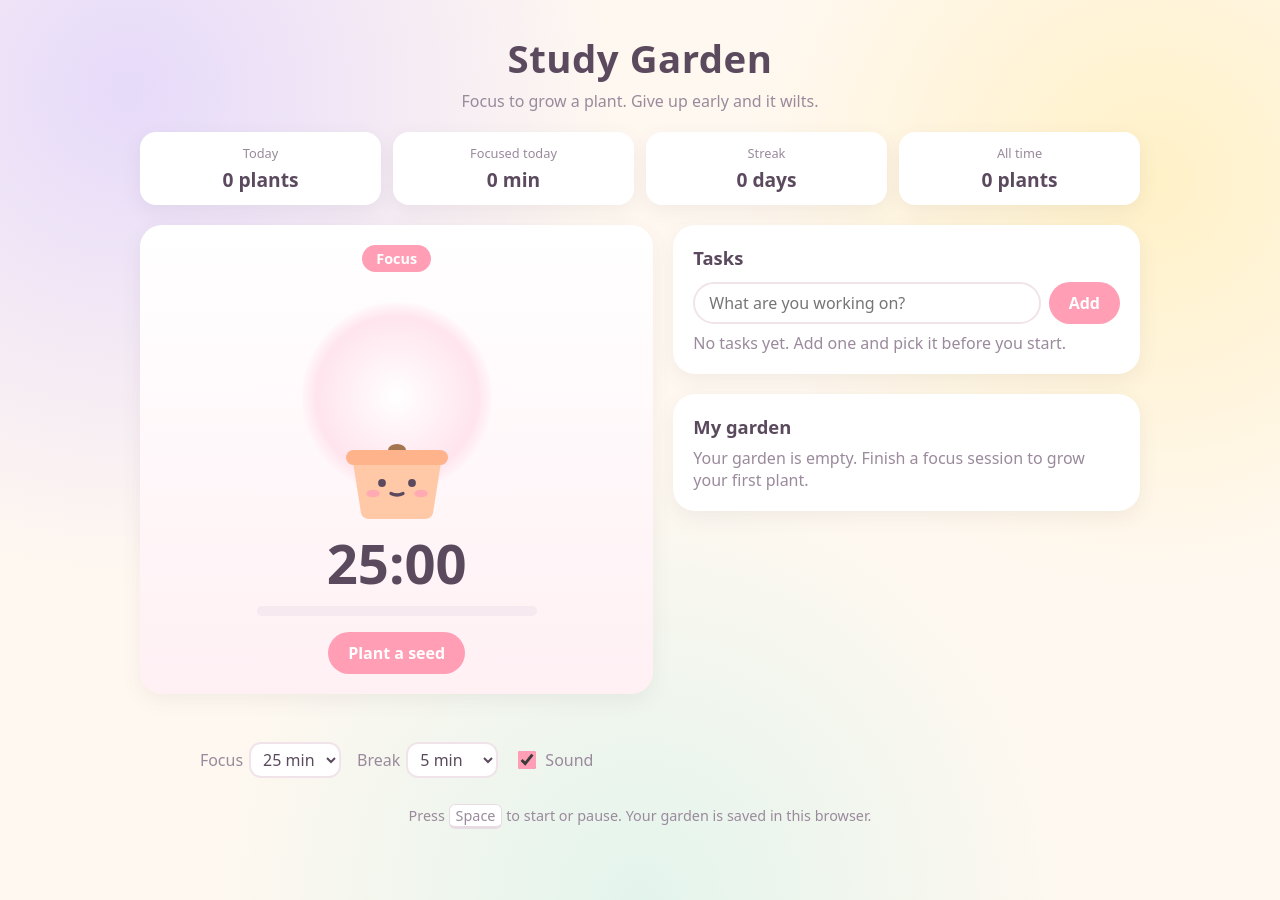
App › counts finished sessions on the selected task
The image size is (1280, 900).
Type "Revise C pointers" into the field named "New task". click: (867, 303)
box: x1=693 y1=282 x2=1041 y2=324
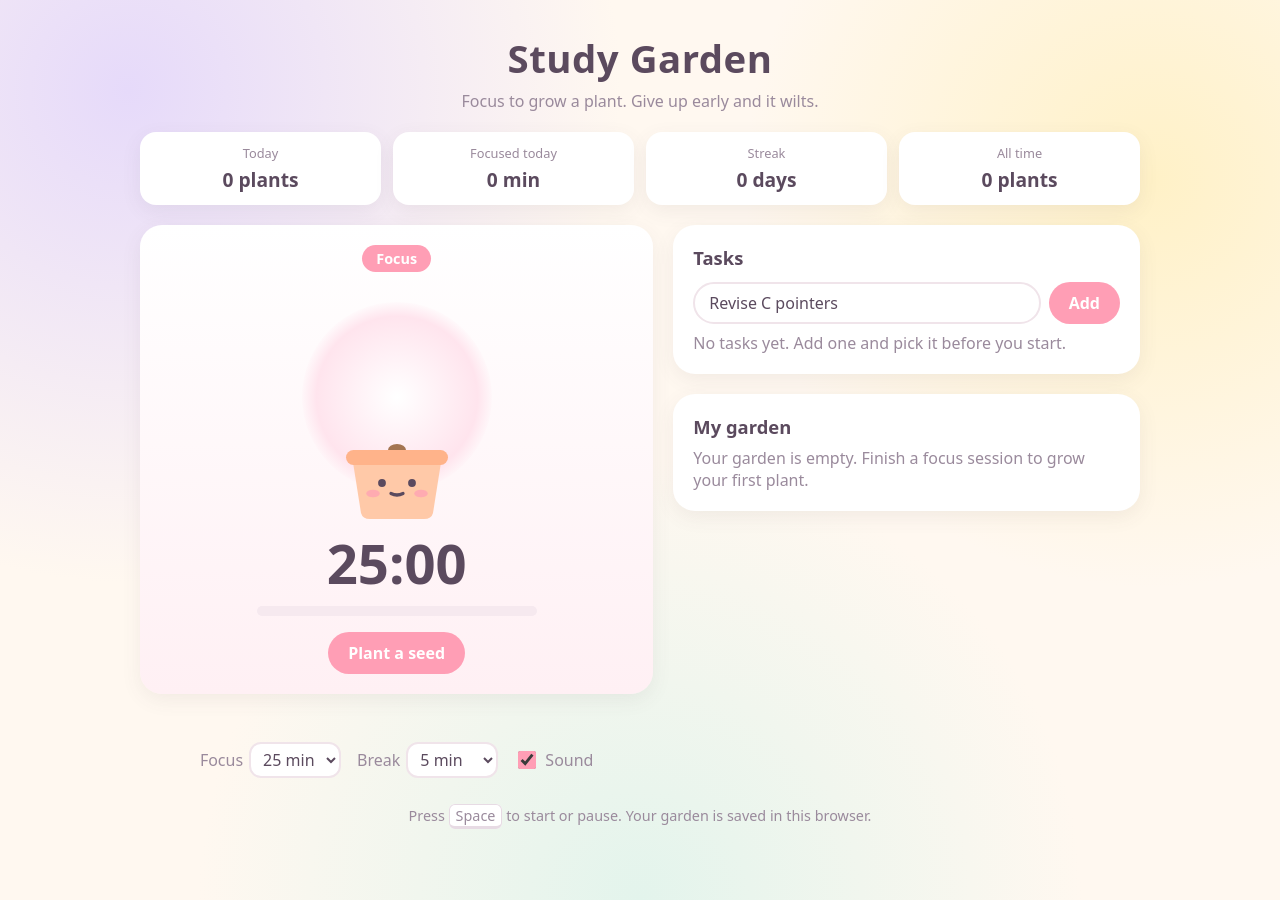
Click the button "Add". click: click(1084, 303)
box: x1=1049 y1=282 x2=1120 y2=324
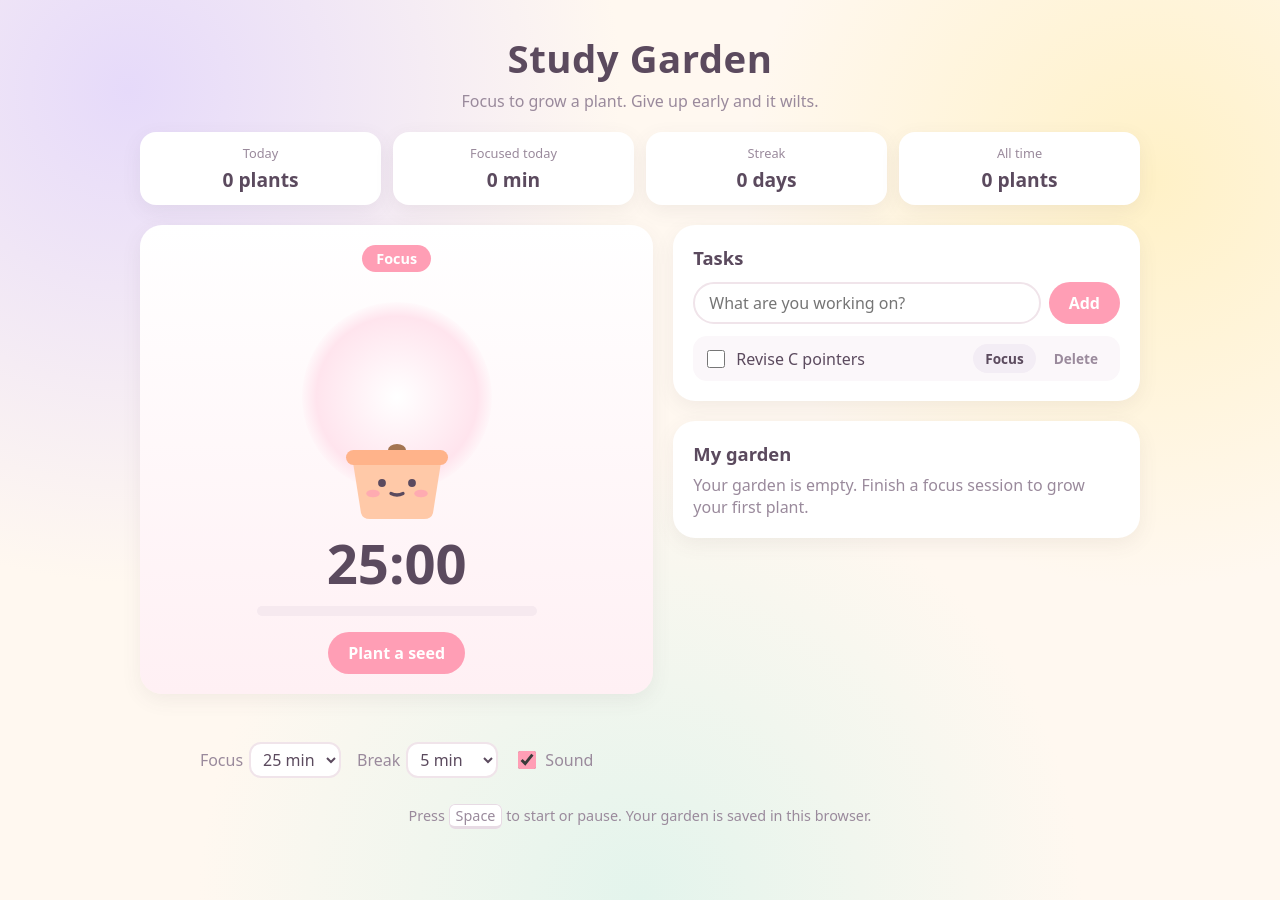
Click the button "Focus". click: click(1004, 358)
box: x1=973 y1=344 x2=1036 y2=373
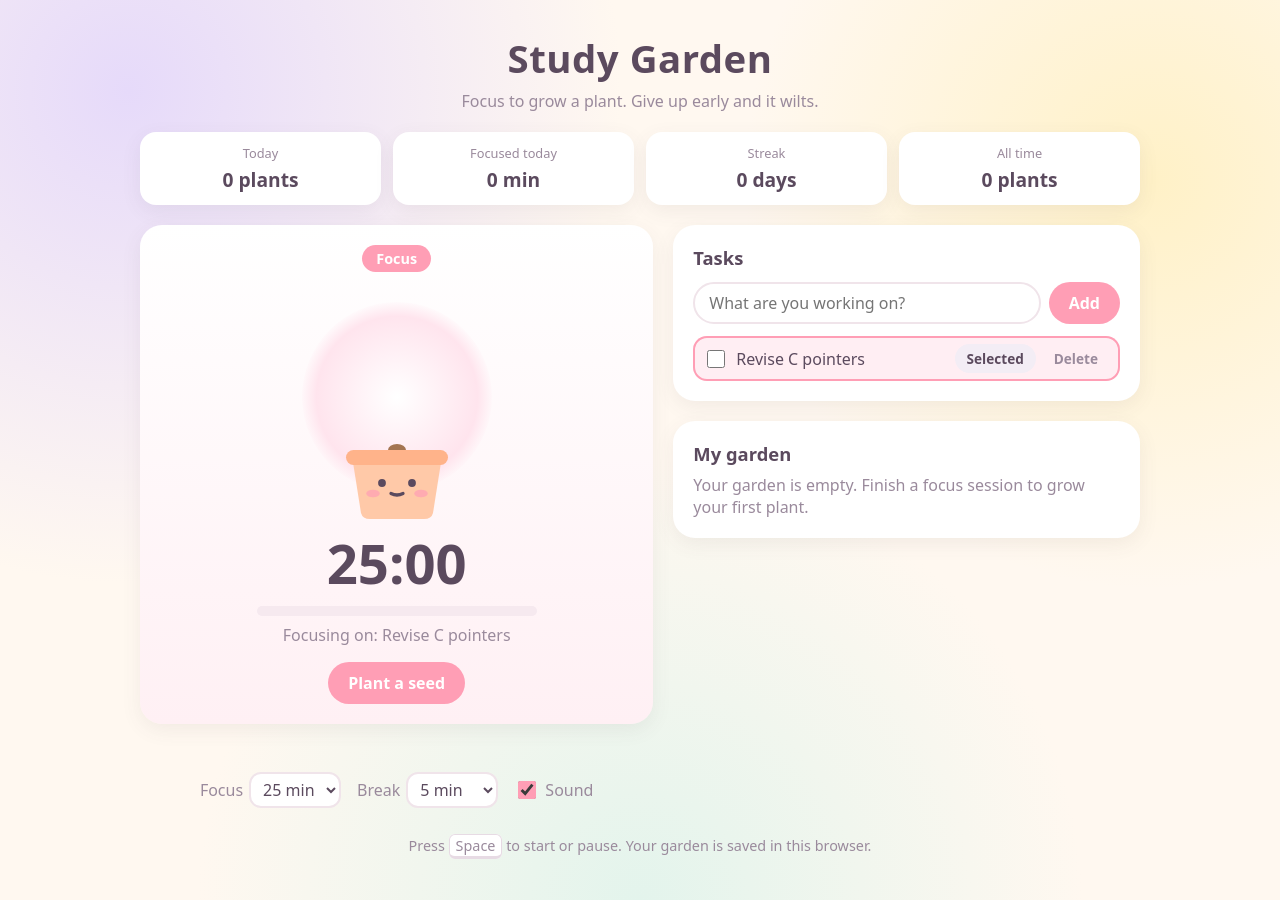
Expected: the text "Focusing on: Revise C pointers" is shown, x1=283 y1=624 x2=511 y2=646
Click the button "Plant a seed". click: click(397, 683)
box: x1=328 y1=662 x2=465 y2=704
Wait 1500000 ms
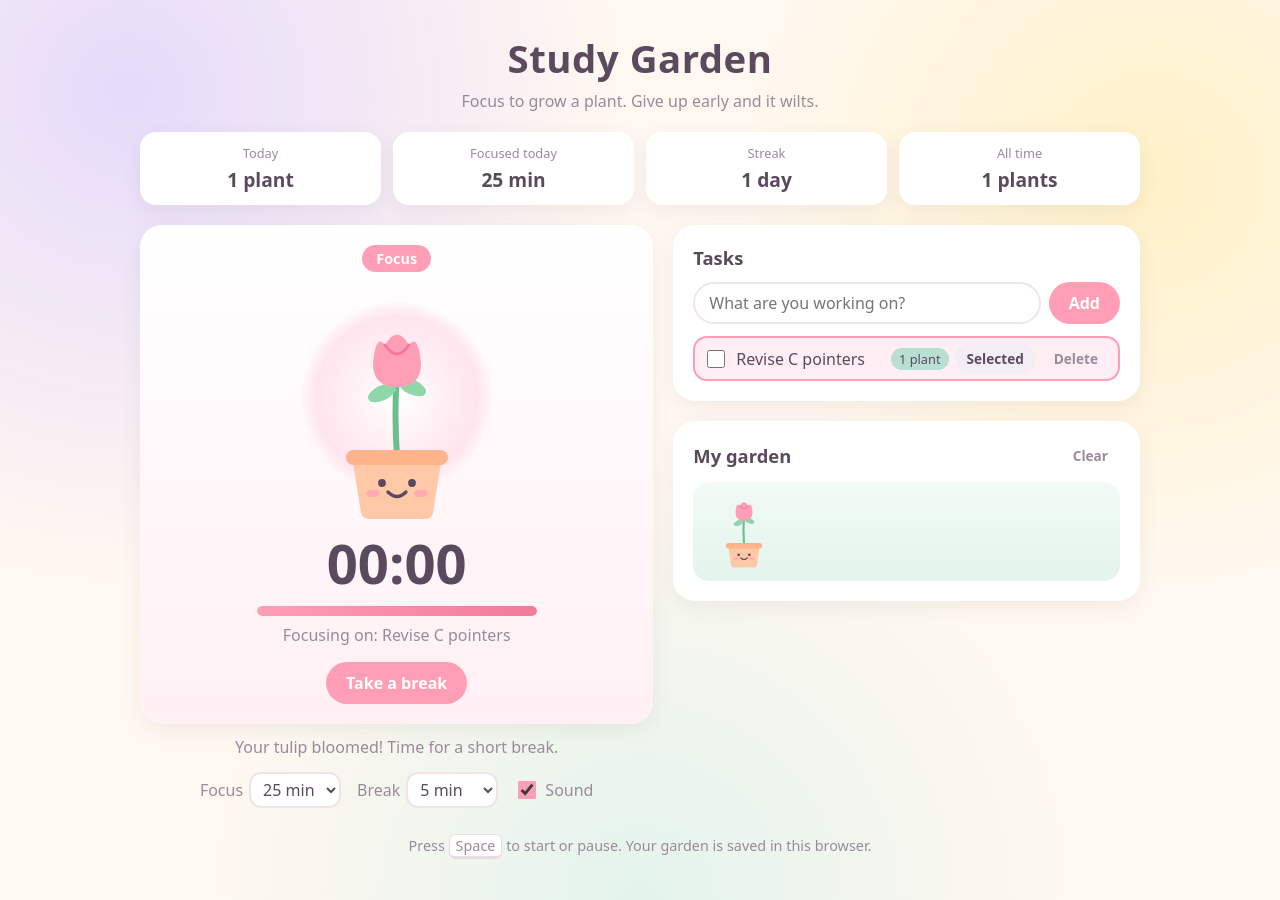
Expected: the text "1 plant" below "Tasks" is shown, x1=891 y1=348 x2=948 y2=370
